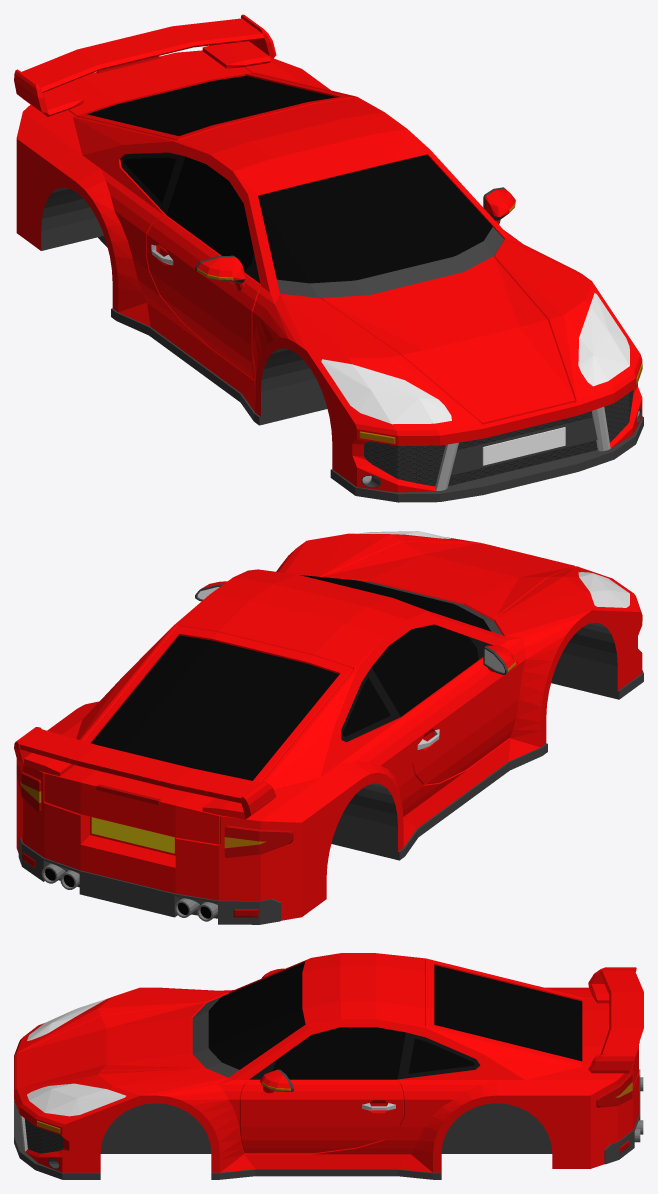
Rendered from car.fbx.
3 renders of one model, top to bottom at view 1: azimuth 30°, elevation 25°; view 2: azimuth 150°, elevation 25°; view 3: azimuth 270°, elevation 25°, orthographic. The views are drawn at different scales.
Parts seen in each view (by area): view 1: body, spoiler, plates; view 2: body, spoiler, lightBrakes, plates, lightSideRear; view 3: body, spoiler, lightSideRear.
Boxes of the visible parts, left/top/right/bottom form: body: left=16, top=50, right=643, bottom=502; spoiler: left=14, top=14, right=276, bottom=116; plates: left=482, top=427, right=565, bottom=465; body: left=16, top=531, right=643, bottom=924; spoiler: left=14, top=727, right=276, bottom=819; lightBrakes: left=17, top=771, right=285, bottom=854; plates: left=91, top=817, right=174, bottom=853; lightSideRear: left=16, top=764, right=293, bottom=857; body: left=14, top=953, right=643, bottom=1179; spoiler: left=588, top=967, right=643, bottom=1073; lightSideRear: left=596, top=1074, right=632, bottom=1107.
Size of what is drawn, in the model's own units: 1.96 by 1.1 by 4.43.
